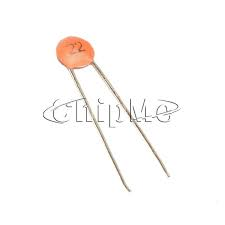ceramic capacitor: (32, 20, 153, 95)
